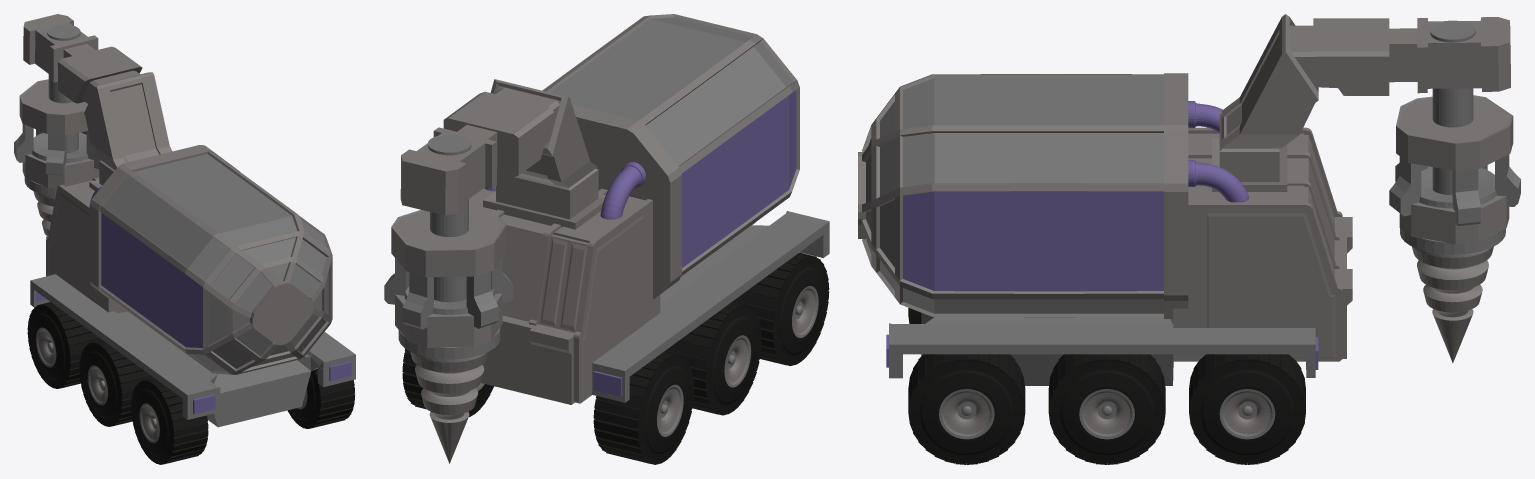
Rendered from gathererOil.fbx.
The picture shows the model from 3 angles, left to right: view 1: azimuth 30°, elevation 25°; view 2: azimuth 150°, elevation 25°; view 3: azimuth 270°, elevation 25°; orthographic projection. The views are drawn at different scales.
Visible parts, largest first — view 1: tanks, craneRoot, wheels.005, carBody, wheels.006, wheels, craneMiddlePart, tankWall, craneTip, drillTop, wheels.001, drillClamps (+5 smaller); view 2: tanks, carBody, craneRoot, tankWall, wheels, wheels.005, wheels.006, drill, craneTip, drillTop, craneMiddlePart, drillClamps (+6 smaller); view 3: tanks, carBody, wheels.001, wheels.004, wheels.003, craneRoot, craneTip, drill, craneMiddlePart, drillTop, tankWall, drillClamps (+4 smaller).
Part boxes in pixels (x1,y1,x2,y2): tanks: (30,152,355,427); craneRoot: (84,72,172,190); wheels.005: (131,378,208,464); carBody: (46,177,125,313); wheels.006: (79,340,153,426); wheels: (27,302,101,388); craneMiddlePart: (58,46,142,103); tankWall: (89,145,239,312); craneTip: (23,14,98,82); drillTop: (19,79,87,135); wheels.001: (287,369,355,428); drillClamps: (14,124,100,175); tanks: (542,14,829,402); carBody: (469,188,660,404); craneRoot: (483,79,605,229); tankWall: (572,104,681,299); wheels: (593,351,694,464); wheels.005: (732,252,829,365); wheels.006: (665,302,761,415); drill: (398,286,500,463); craneTip: (400,125,497,215); drillTop: (391,207,506,276); craneMiddlePart: (443,87,559,176); drillClamps: (384,258,513,329); tanks: (858,74,1315,385); carBody: (1173,127,1352,361); wheels.001: (908,354,1025,464); wheels.004: (1048,354,1165,464); wheels.003: (1189,354,1305,464); craneRoot: (1212,14,1318,191); craneTip: (1389,17,1510,93); drill: (1400,166,1505,363); craneMiddlePart: (1289,18,1389,95); drillTop: (1396,95,1513,170); tankWall: (1164,73,1188,321); drillClamps: (1389,154,1520,225).
Bounding box in the file's own units: 325 × 459 × 735.
